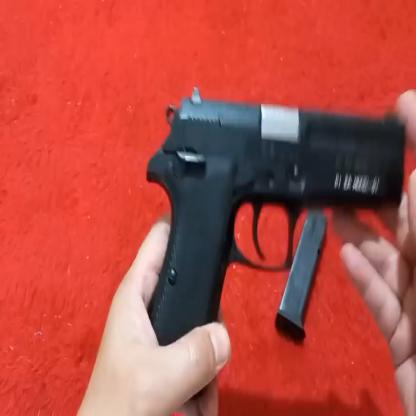handgun: (138, 95, 412, 338)
